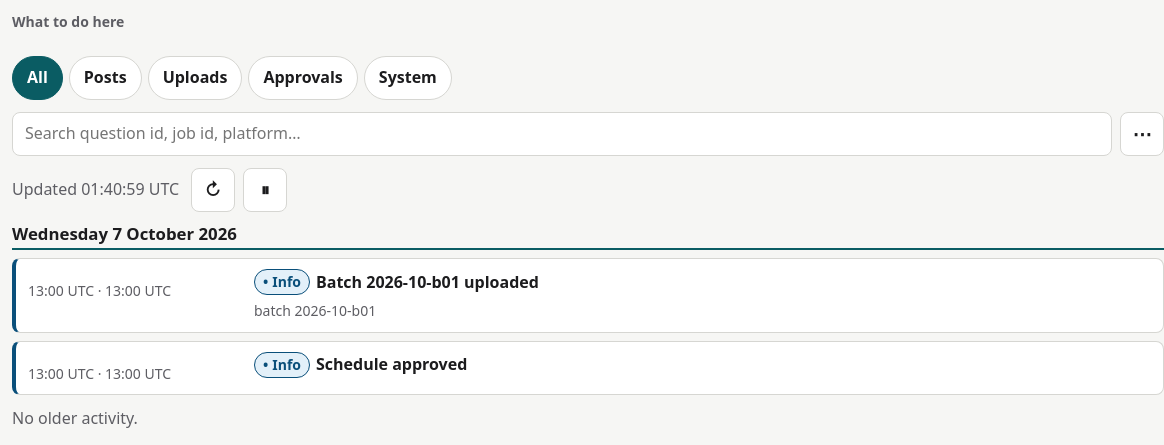
Scenario: Activity › searches loaded entries
This screenshot has width=1164, height=445.
Expected: the text "Schedule approved" is shown, [316,353,467,376]
Type "b01" into the search field at (562, 134), box [12,112,1112,156]
Then press Enter
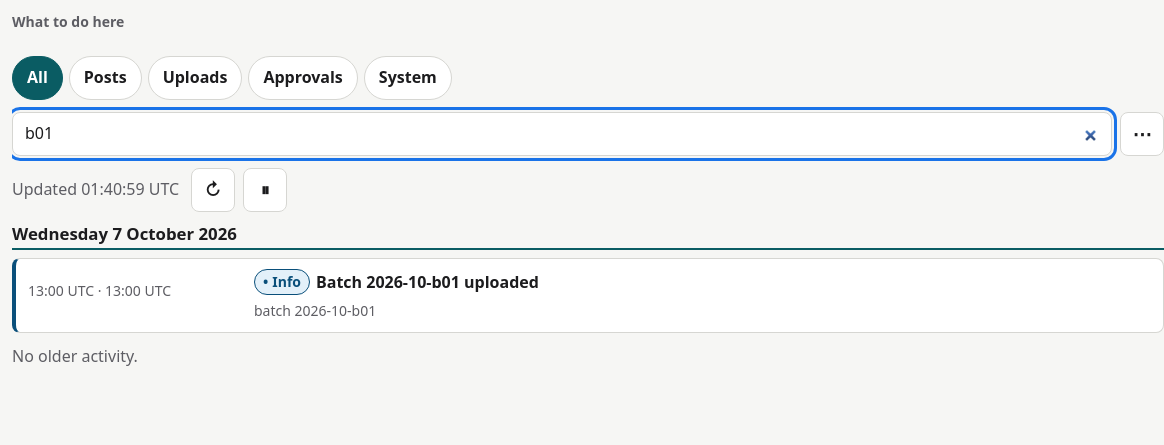
Expected: the text "Batch 2026-10-b01 uploaded" is shown, [316,271,539,294]
Expected: the text "Schedule approved" is gone
